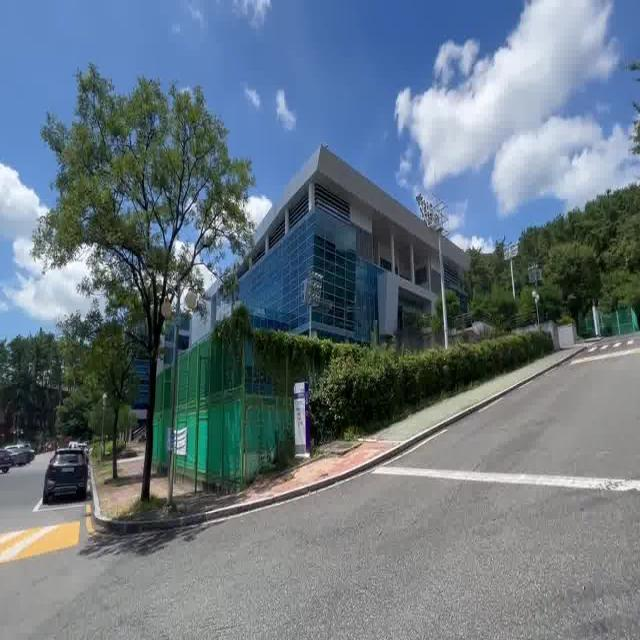building: (266, 139, 451, 337)
